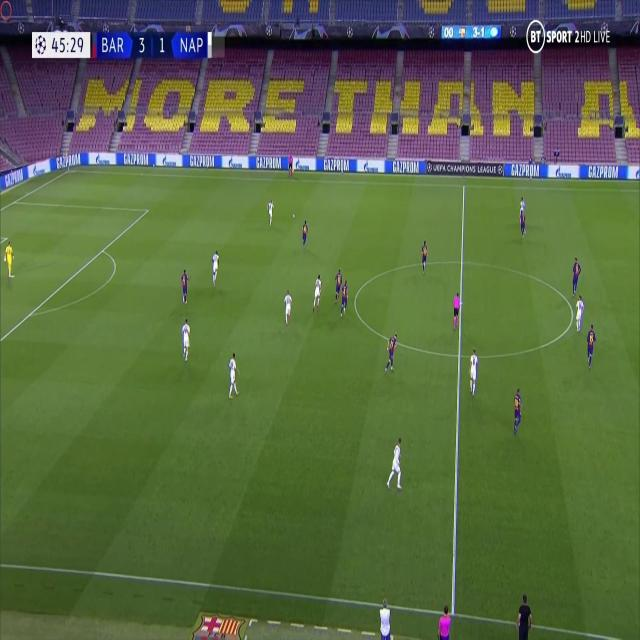ball: (292, 211, 295, 218)
goalkeeper: (4, 239, 15, 279)
player: (386, 437, 404, 492), (227, 349, 240, 398), (511, 386, 523, 435), (585, 322, 597, 370), (468, 346, 479, 396), (384, 331, 397, 372), (570, 256, 582, 296), (181, 315, 191, 363), (574, 293, 586, 332), (179, 266, 191, 304), (282, 286, 293, 325), (518, 193, 527, 238), (333, 267, 343, 307), (312, 272, 322, 312), (210, 247, 220, 286), (340, 278, 349, 316), (420, 238, 428, 272), (266, 196, 275, 225), (301, 218, 309, 248), (288, 151, 294, 179)
referee: (433, 599, 456, 640), (451, 290, 461, 330)
